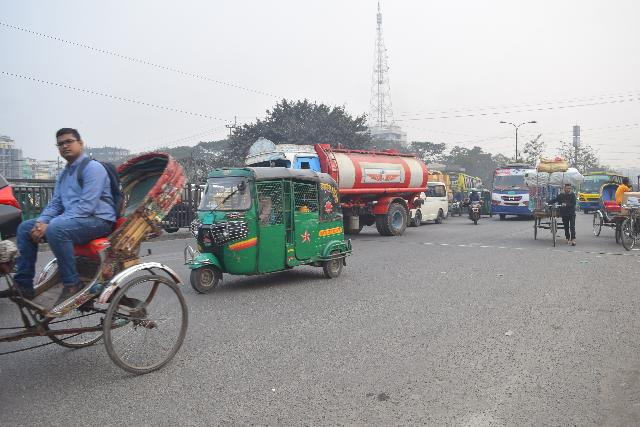bus: (483, 159, 577, 224), (578, 170, 609, 209)
truck: (245, 134, 441, 242)
